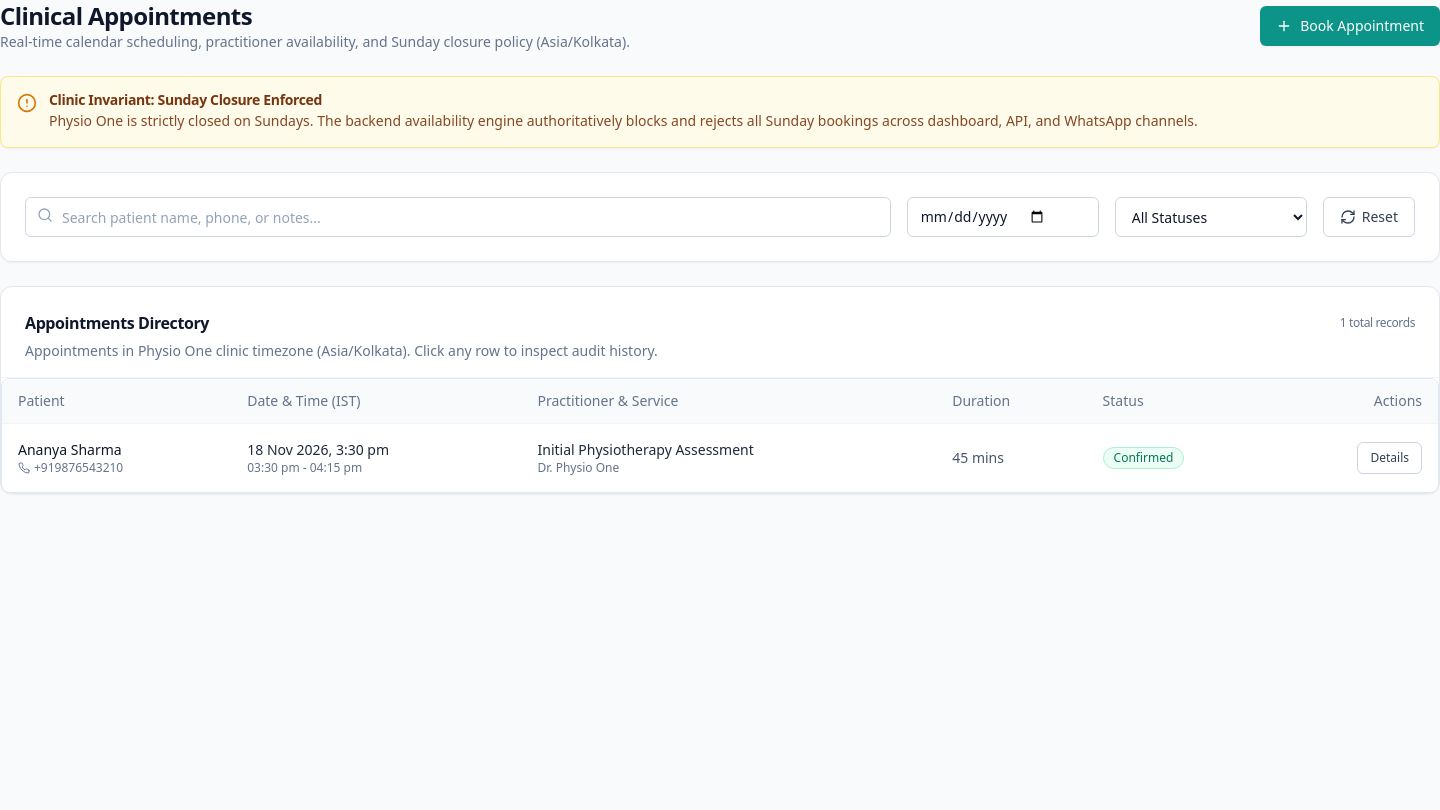
Test: AppointmentsPage › opens appointment detail modal and shows lifecycle history
The width and height of the screenshot is (1440, 810).
Check: the text "Ananya Sharma" is shown, box left=18, top=440, right=122, bottom=458
Click the button "Details".
click(1390, 458)  # box left=1358, top=442, right=1422, bottom=474
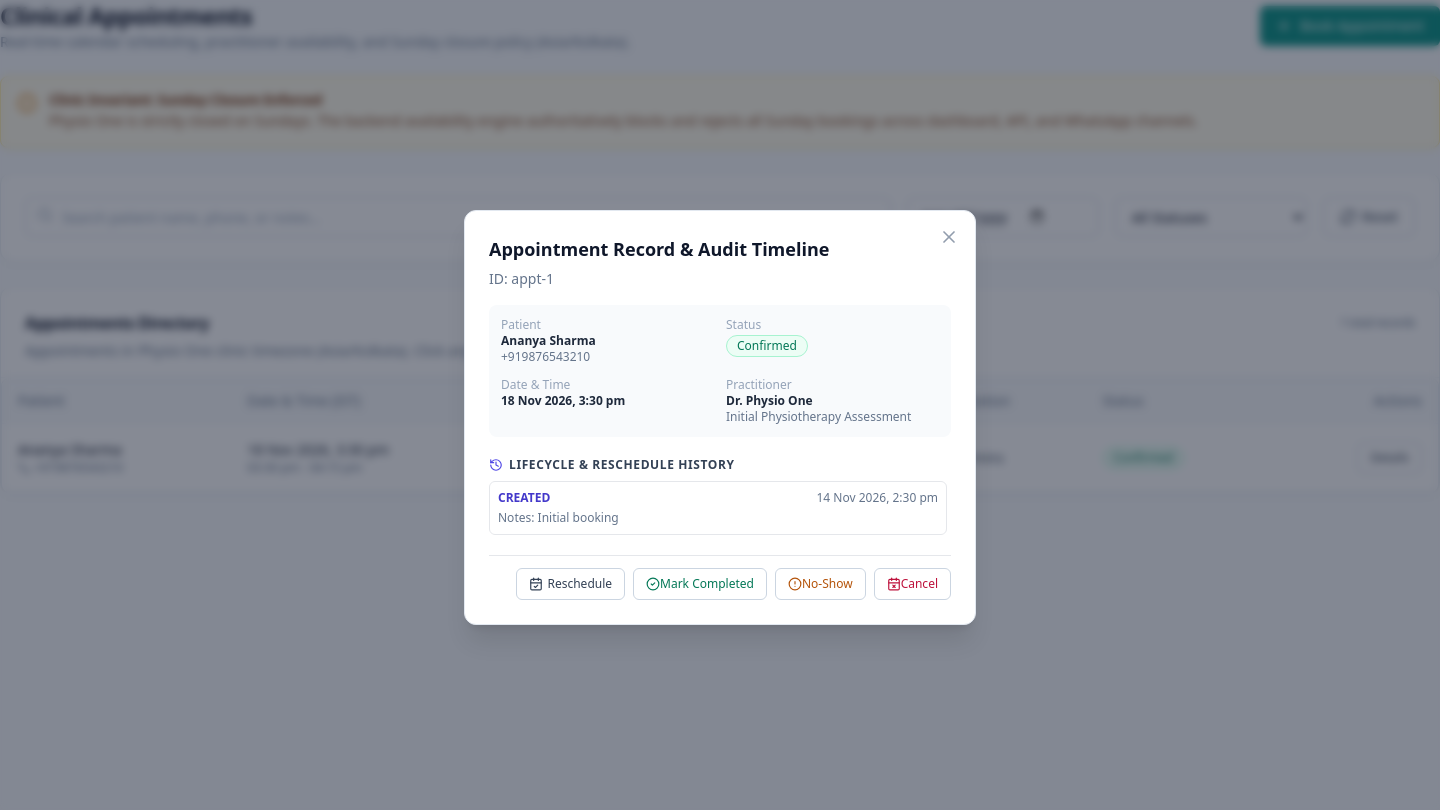
Check: the heading "Appointment Record & Audit Timeline" is shown, box left=489, top=236, right=829, bottom=260
Check: the heading "Lifecycle & Reschedule History" is shown, box left=489, top=456, right=734, bottom=472
Check: the text "created" is shown, box left=498, top=490, right=550, bottom=506
